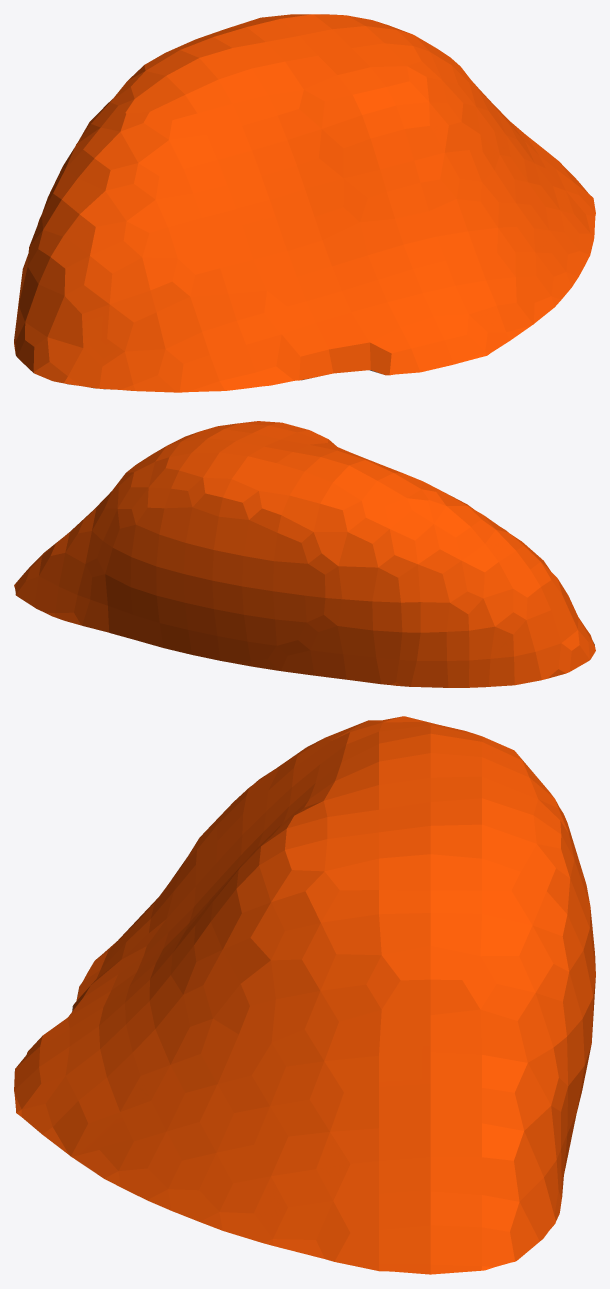
3 views of the same model, one above another, from view 1: azimuth 30°, elevation 25°; view 2: azimuth 150°, elevation 25°; view 3: azimuth 270°, elevation 25° (orthographic). The views are drawn at different scales.
Visible parts, largest first — view 1: 19.023; view 2: 19.023; view 3: 19.023.
Part boxes in pixels (x1=…): 19.023: x1=14, y1=14, x2=595, y2=392; 19.023: x1=14, y1=421, x2=595, y2=687; 19.023: x1=14, y1=716, x2=595, y2=1274.
Bounding box in the file's own units: 9.09 × 3.15 × 5.65.
